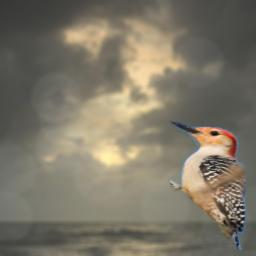Woodpecker: (170, 120, 246, 250)
